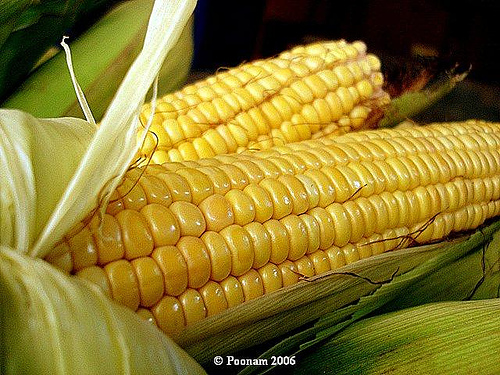corn: (1, 118, 499, 374), (0, 38, 390, 162)
